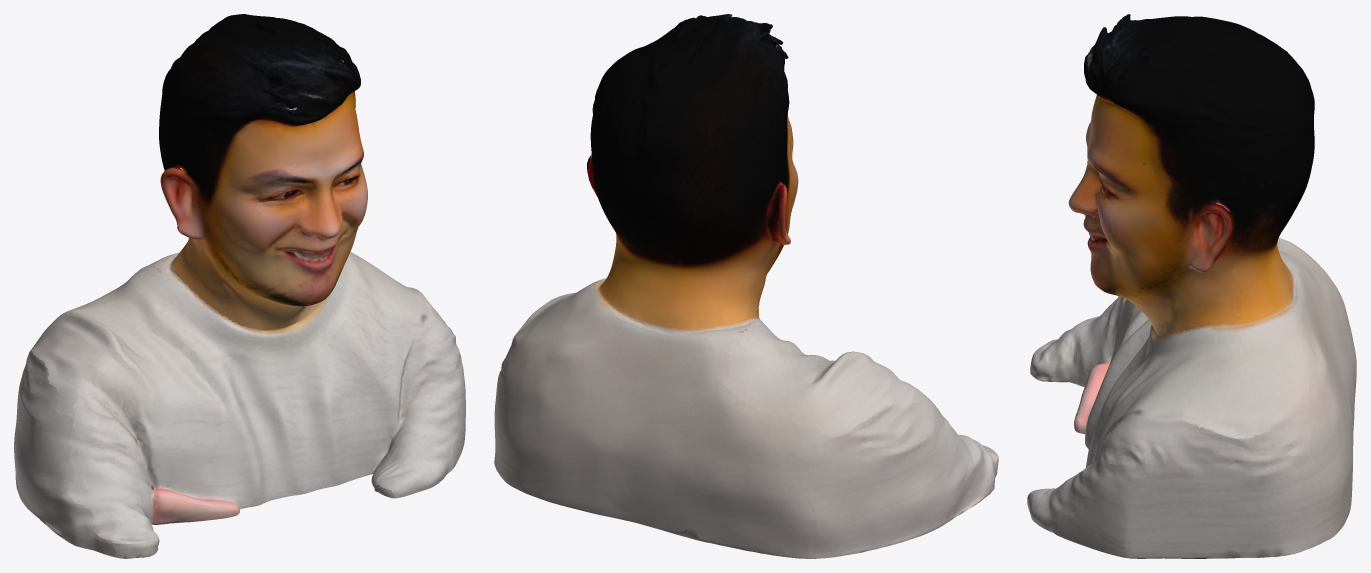
Rendered from hello.glb.
The picture shows the model from 3 angles, left to right: view 1: azimuth 30°, elevation 25°; view 2: azimuth 150°, elevation 25°; view 3: azimuth 270°, elevation 25°; orthographic projection. The views are drawn at different scales.
Parts seen in each view (by area): view 1: tmpxmferkpr.ply; view 2: tmpxmferkpr.ply; view 3: tmpxmferkpr.ply.
Part boxes in pixels (left/top/right/bottom): tmpxmferkpr.ply: left=14, top=14, right=465, bottom=558; tmpxmferkpr.ply: left=494, top=14, right=998, bottom=558; tmpxmferkpr.ply: left=1027, top=14, right=1356, bottom=558.
Size of the model in its own units: 1.99 by 1.99 by 1.32.
1 material, 1 textured.
